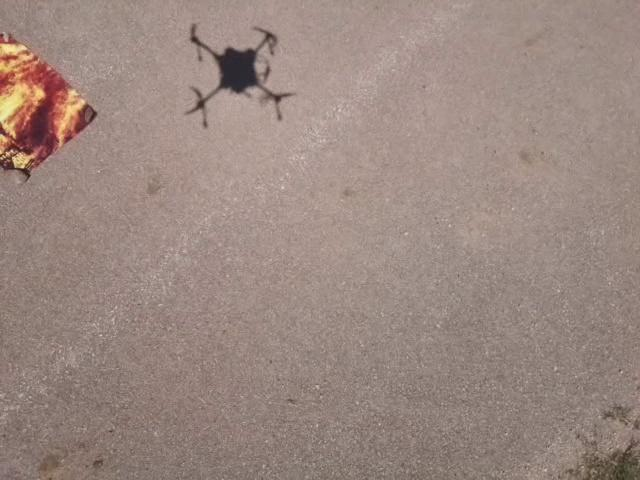fire-poster: (0, 28, 98, 183)
